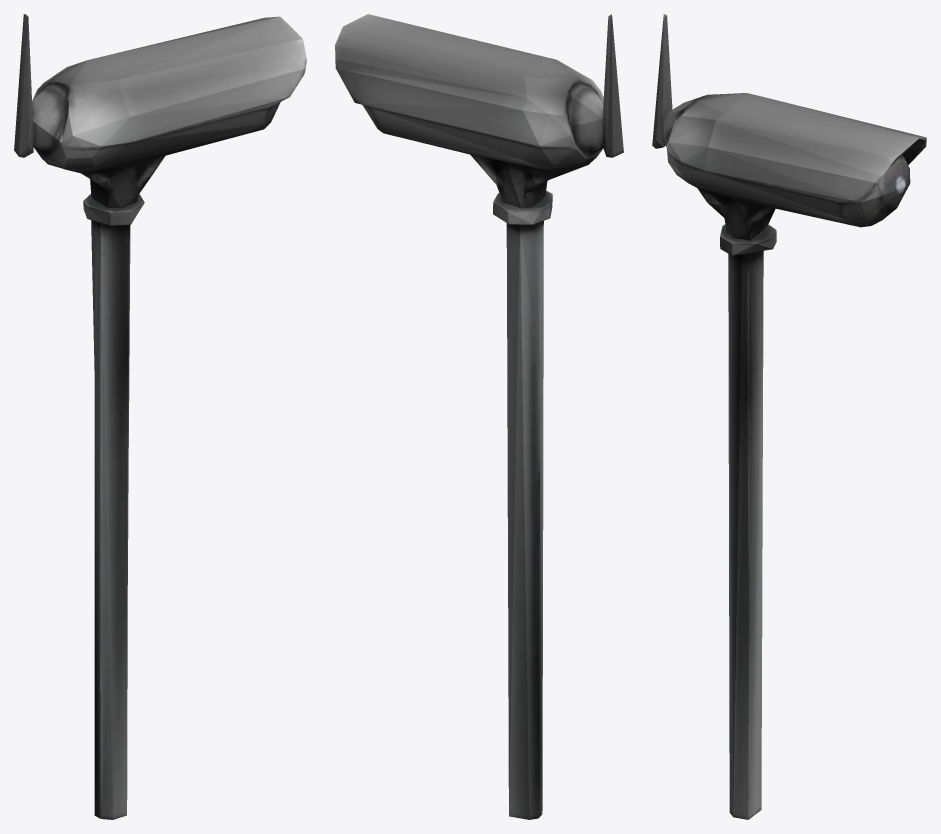
Rendered from cctv.glb.
3 renders of one model, left to right at view 1: azimuth 30°, elevation 25°; view 2: azimuth 150°, elevation 25°; view 3: azimuth 330°, elevation 25°, orthographic. The views are drawn at different scales.
Parts seen in each view (by area): view 1: geometry_0; view 2: geometry_0; view 3: geometry_0.
Part boxes in pixels (x1,y1,x2,y2): geometry_0: (14, 14, 306, 819); geometry_0: (335, 14, 623, 819); geometry_0: (652, 14, 926, 819).
Size of the model in its own units: 0.3459 by 0.9989 by 0.13.
Materials: 1 (1 with a texture image).
